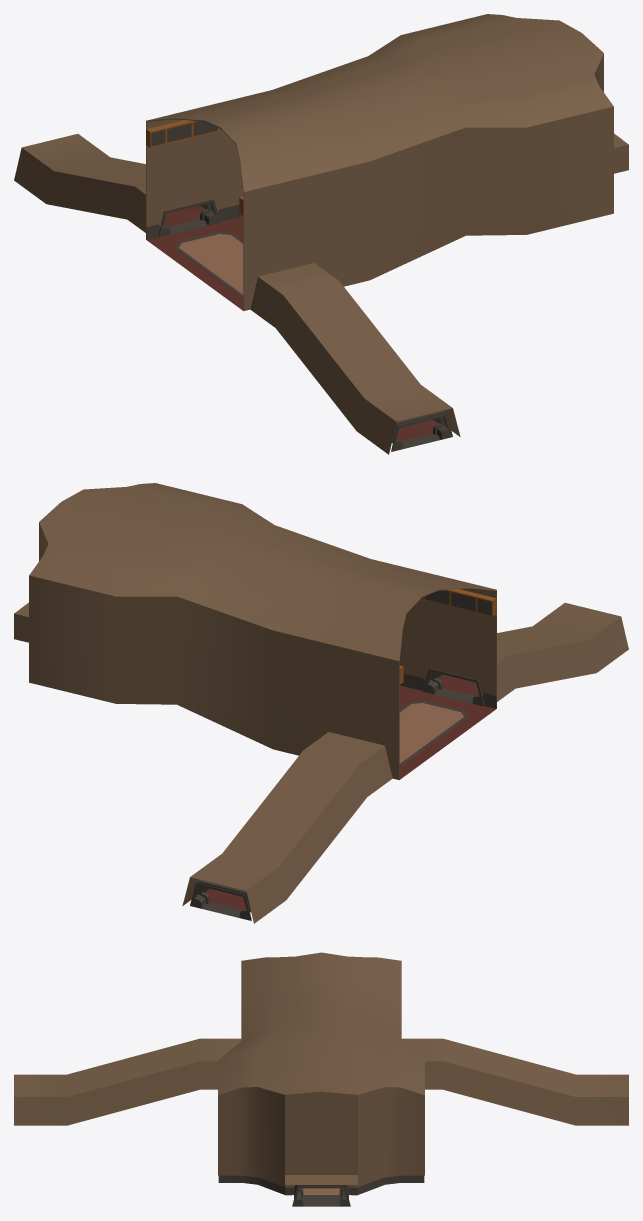
Rendered from 01_Principal.fbx.
3 views of the same model, one above another, from view 1: azimuth 30°, elevation 25°; view 2: azimuth 150°, elevation 25°; view 3: azimuth 270°, elevation 25° (orthographic). The views are drawn at different scales.
Visible parts, largest first — view 1: 01_Principal; view 2: 01_Principal; view 3: 01_Principal.
Part boxes in pixels (<box>): 01_Principal: <box>14,14,628,454</box>; 01_Principal: <box>14,483,628,923</box>; 01_Principal: <box>14,952,628,1206</box>.
Bounding box in the file's own units: 8845 × 3955 × 13901.
